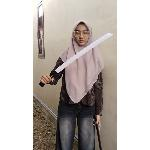Pedang: (44, 32, 116, 84)
